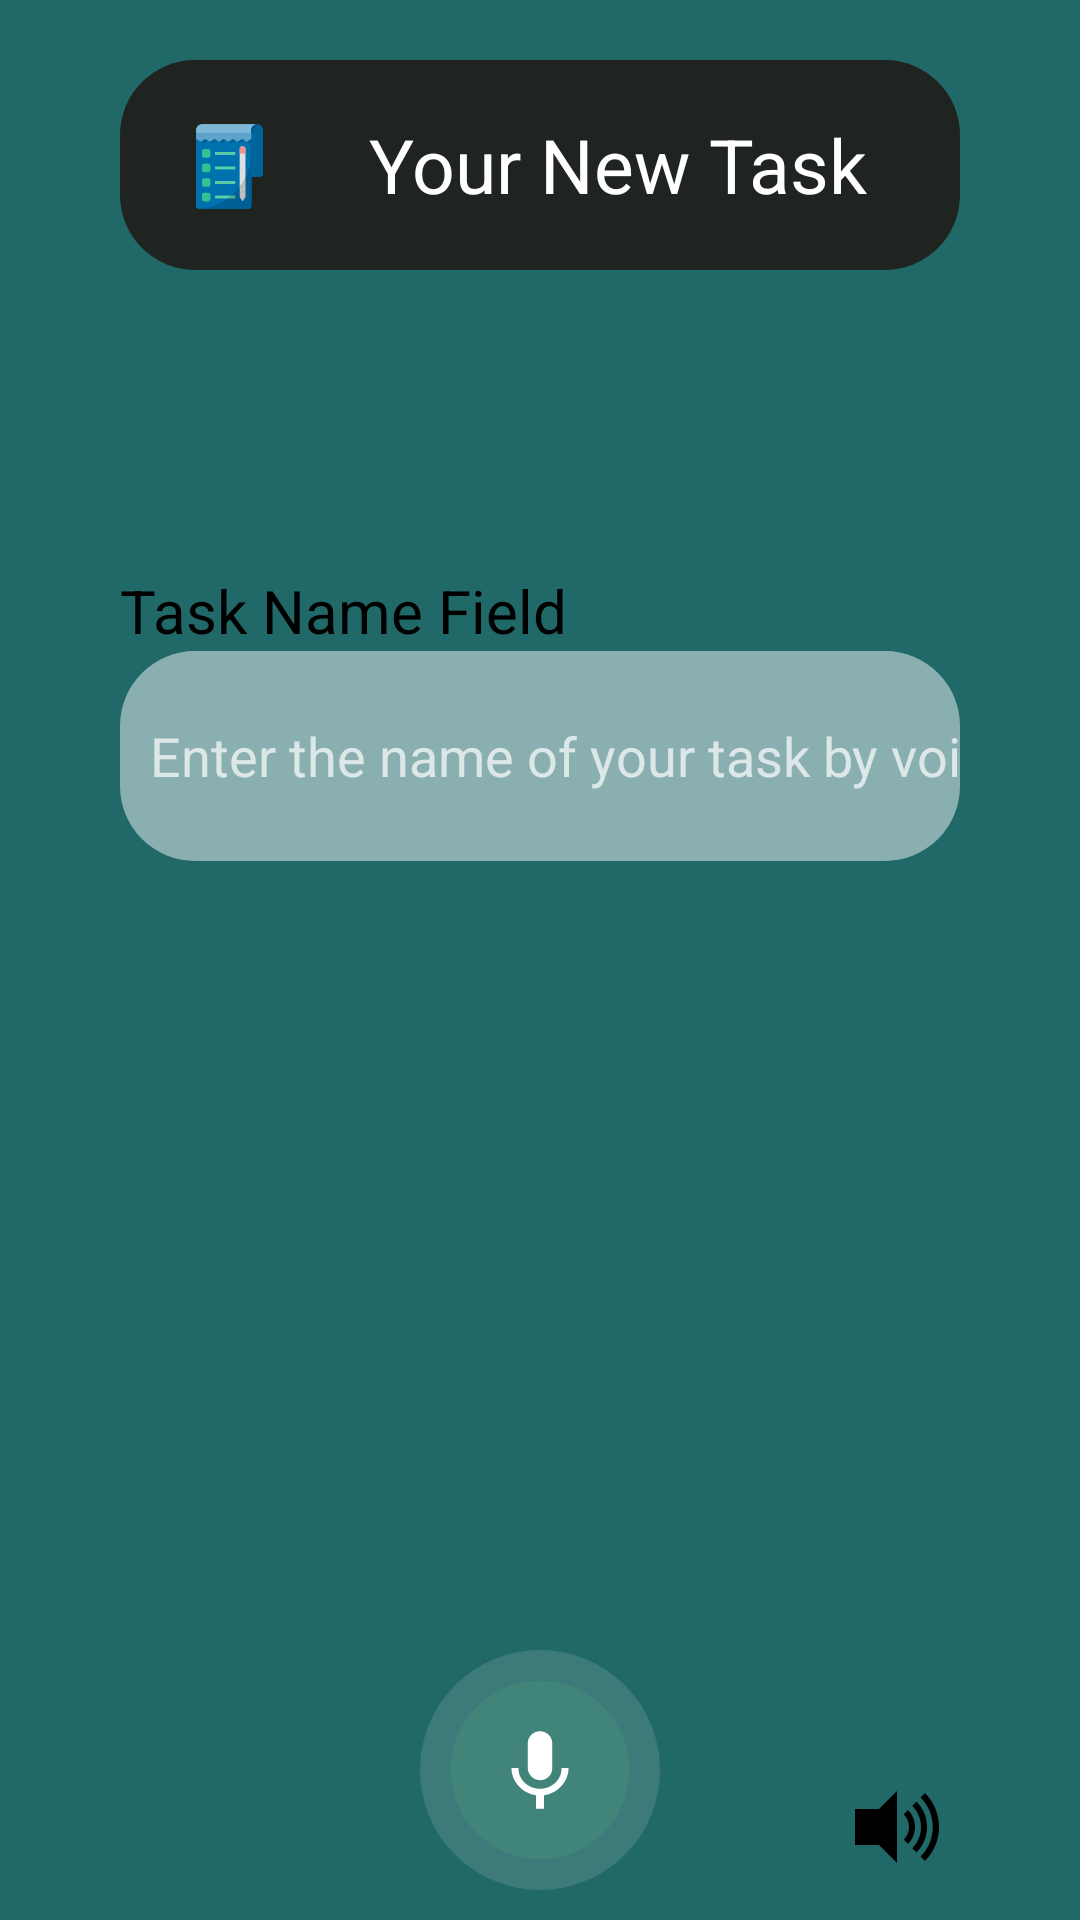

Named icons in this screenshot (1080*1920) and their bounding boxes, (x1, y1, x2, y2):
micro: (420, 1650, 660, 1890)
speaker: (855, 1791, 939, 1863)
